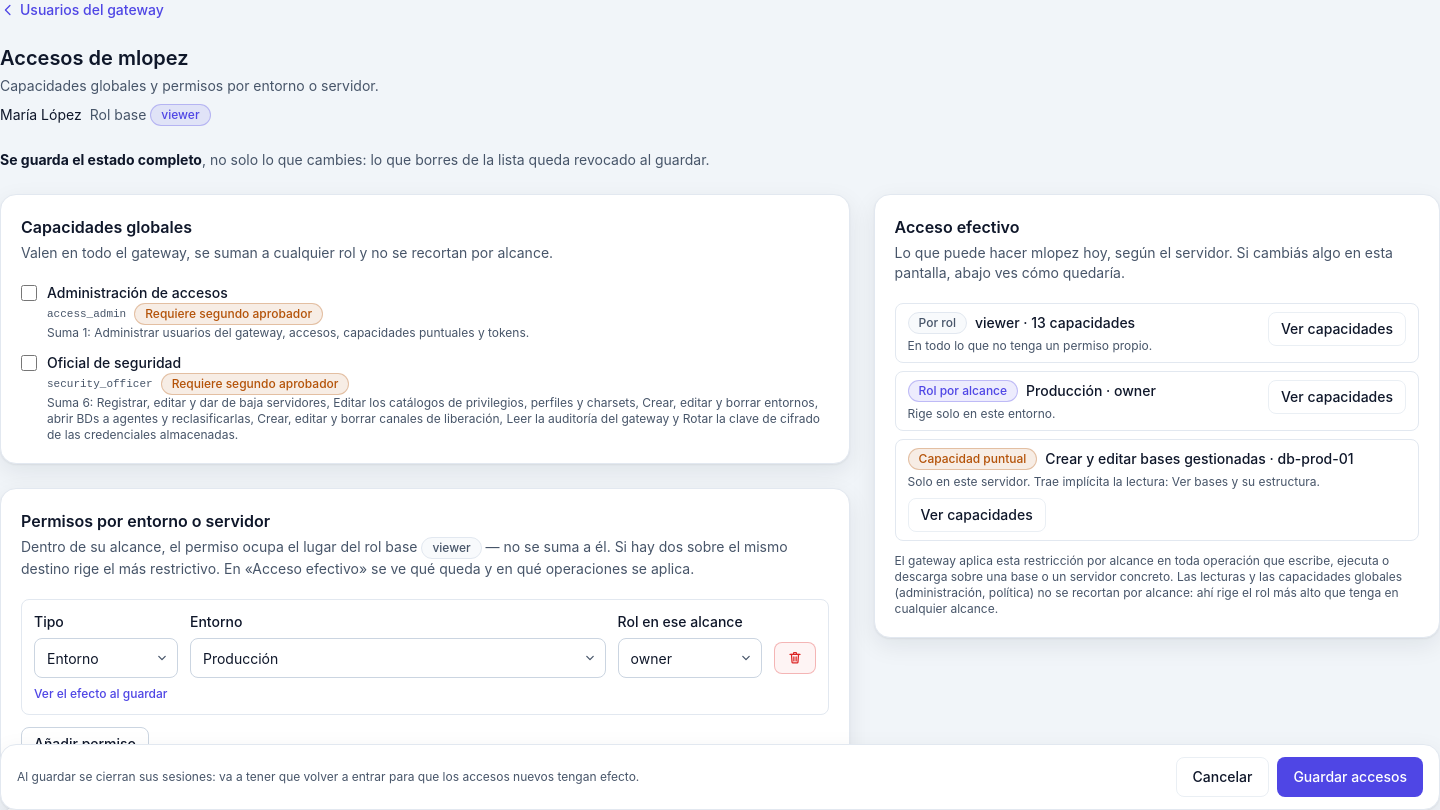
Scenario: GatewayUserAccessPage › un 202 (elevación pendiente) lleva a la solicitud en la bandeja, sin preguntar por cambios
The image size is (1440, 810).
Click the checkbox labelled "Administración de accesos".
click(29, 293)  # box 21,285 -> 37,301
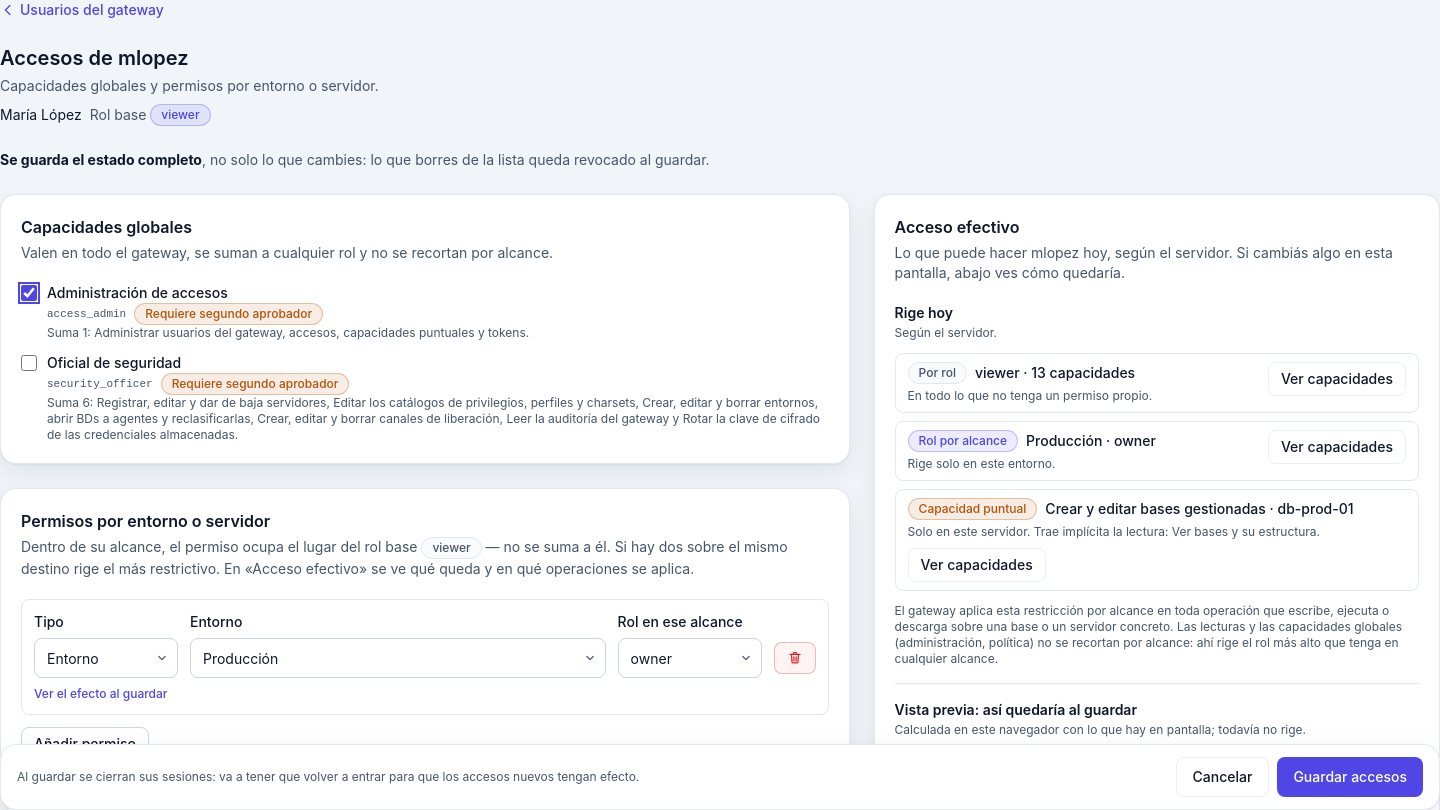
Click the button "Guardar accesos".
click(1350, 777)  # box 1277,757 -> 1423,797
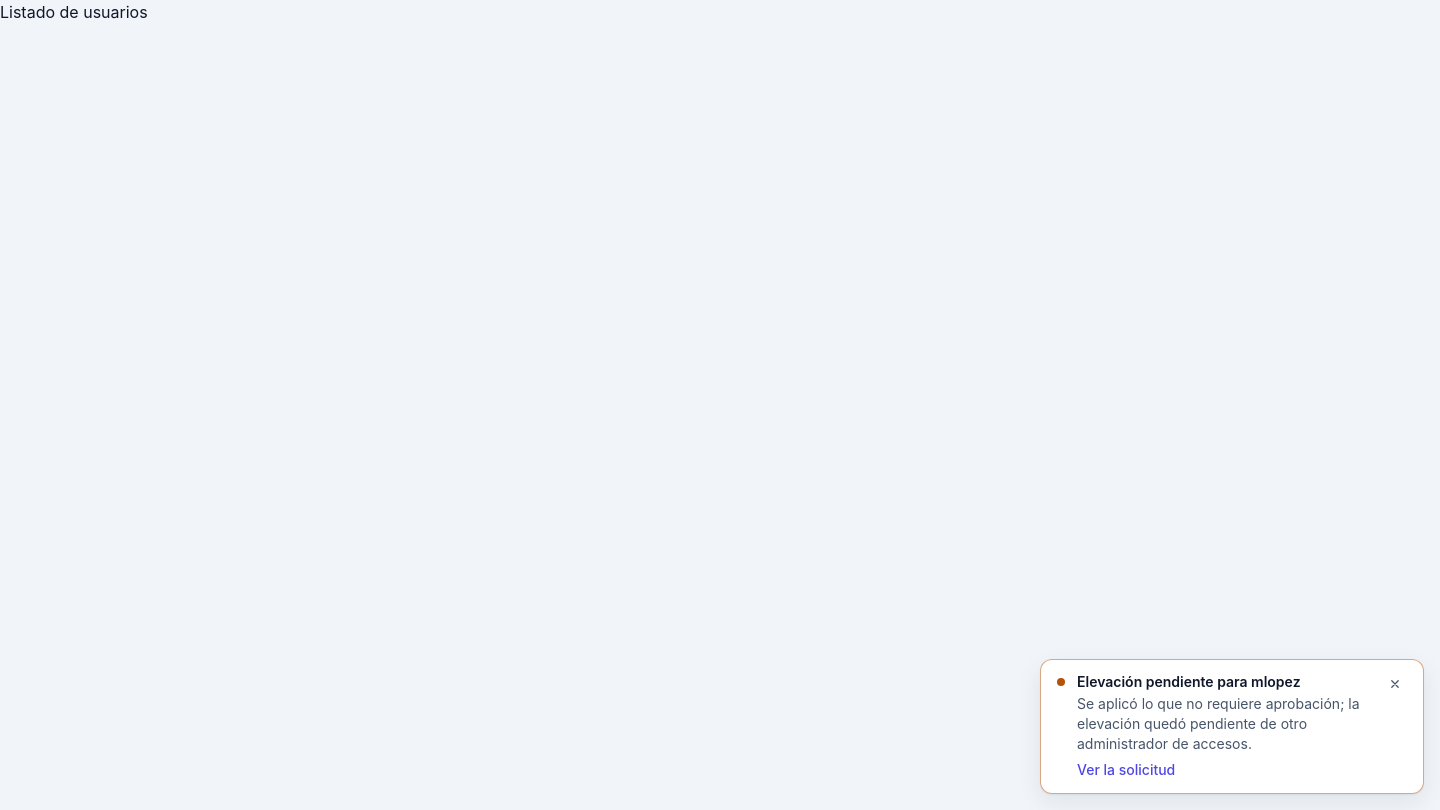
Expected: the text "Listado de usuarios" is shown, 0,2 -> 148,22
Expected: the text "Se aplicó lo que no requiere aprobación; la elevación quedó pendiente de otro administrador de accesos." is shown, 1077,695 -> 1360,752
